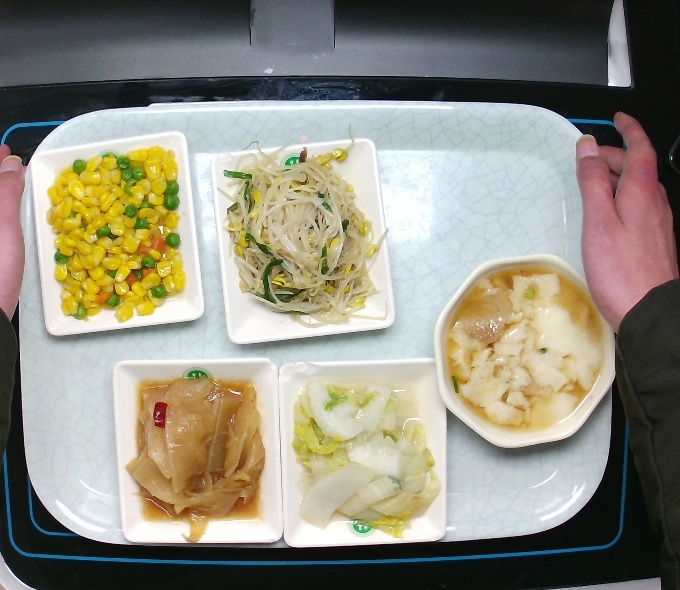wcq-DaBaiCai: (288, 376, 441, 544)
wcq-DongGua: (123, 373, 269, 545)
wcq-DouYa: (216, 121, 394, 330)
wcq-ShuiZhengDan: (440, 262, 606, 435)
wcq-TianMiTianDou: (42, 142, 188, 326)
